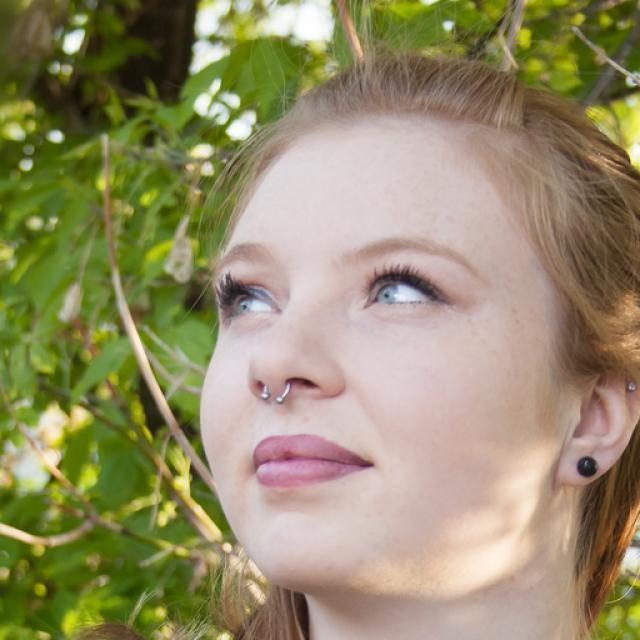0_rostro_limpio: (199, 56, 640, 593)
